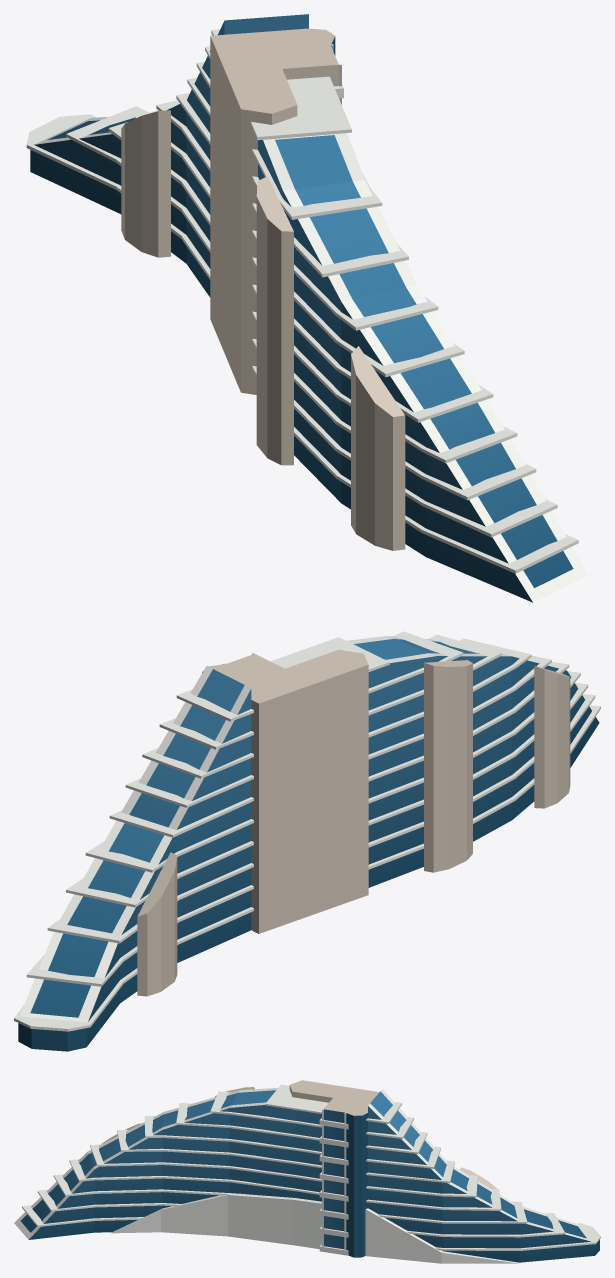
The model's file is jumeirahBeachHotel.FBX.
3 renders of one model, top to bottom at view 1: azimuth 30°, elevation 25°; view 2: azimuth 150°, elevation 25°; view 3: azimuth 270°, elevation 25°, orthographic. The views are drawn at different scales.
Parts seen in each view (by area): view 1: jumeirahBeachHotel; view 2: jumeirahBeachHotel; view 3: jumeirahBeachHotel.
Boxes of the visible parts, x1=… form: jumeirahBeachHotel: x1=26, y1=14, x2=587, y2=602; jumeirahBeachHotel: x1=14, y1=631, x2=600, y2=1051; jumeirahBeachHotel: x1=14, y1=1080, x2=600, y2=1263.
Bounding box in the file's own units: 0.8002 × 0.9795 × 3.5.
